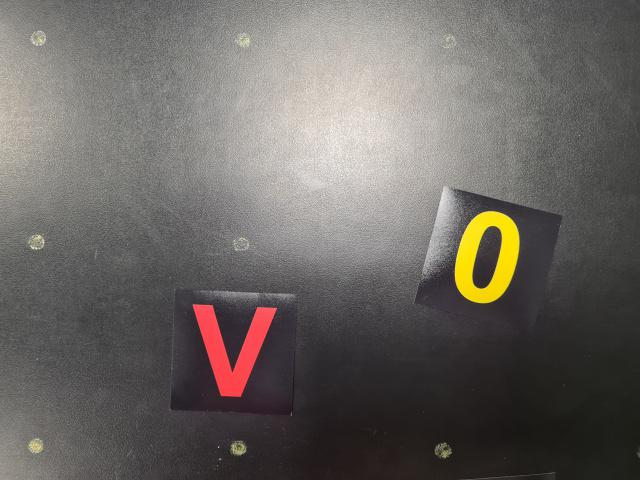0: (413, 183, 563, 336)
v: (166, 288, 298, 419)
